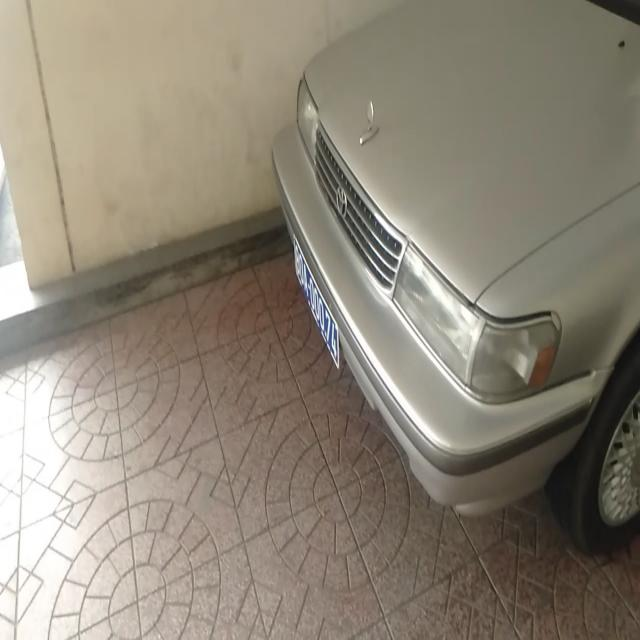bien_xanh: (290, 235, 340, 375)
